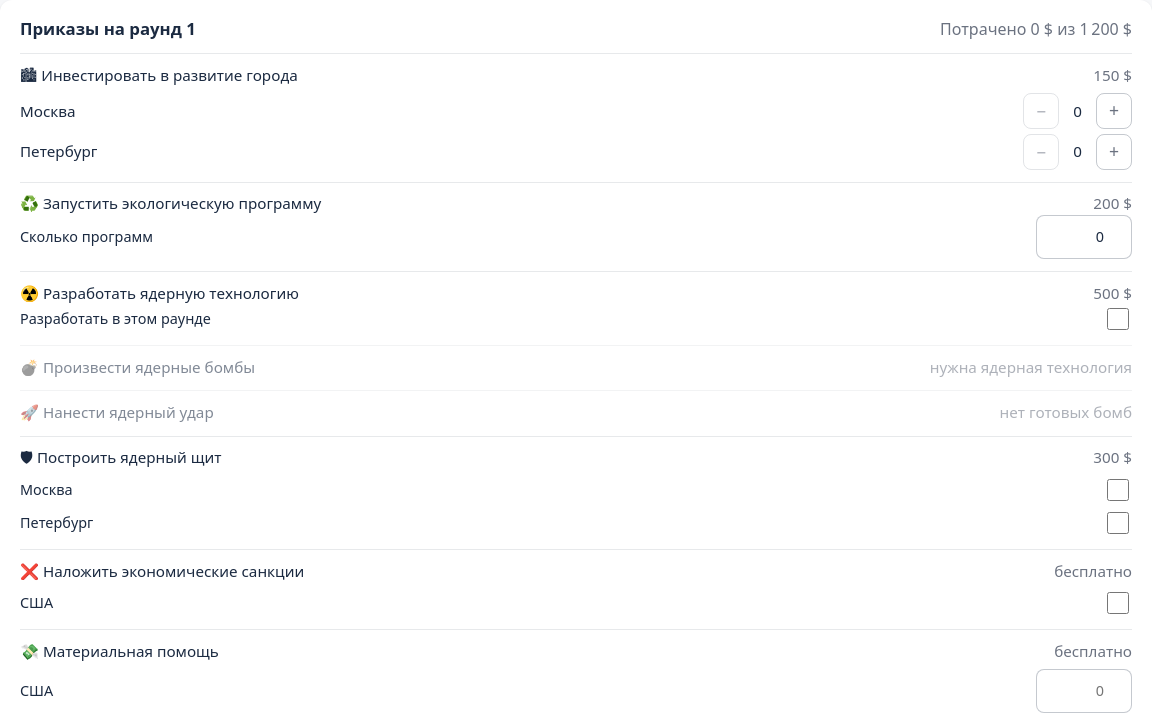
Test: OrdersForm › counts spending as the player picks targets
Click the button named "Добавить Москва" at (1114, 111), box [1096,93,1132,129]
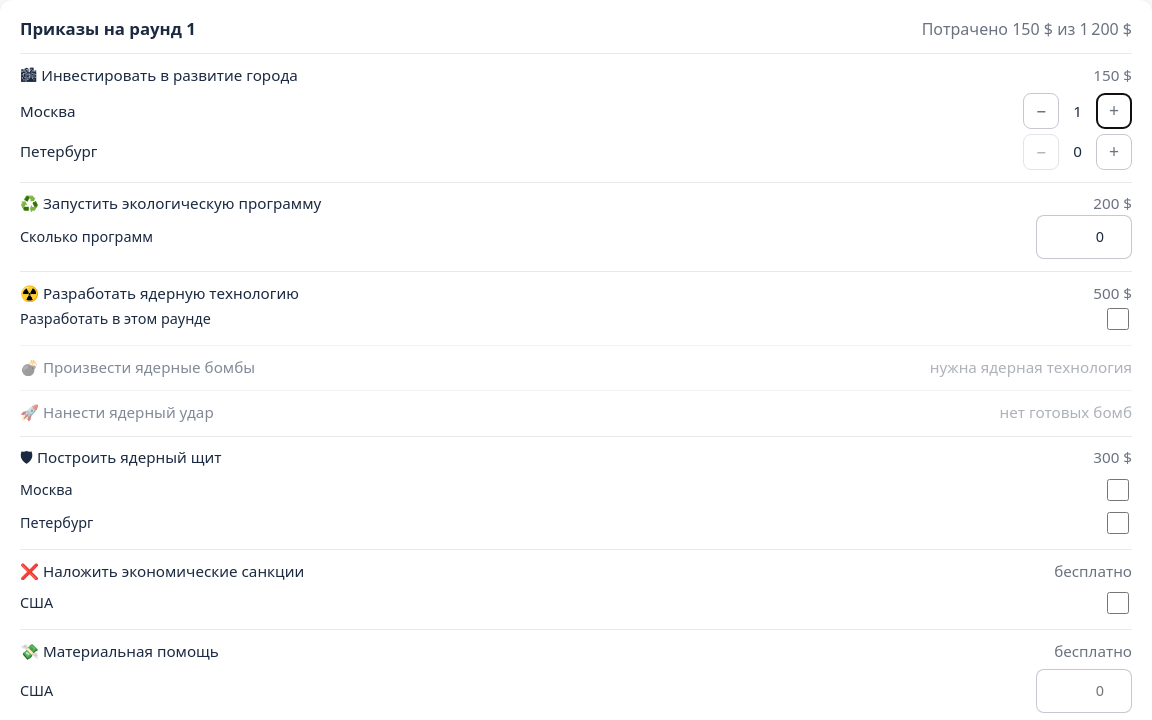
Expected: the text "Потрачено 150 $ из 1 200 $" is shown, [922,17,1132,41]
